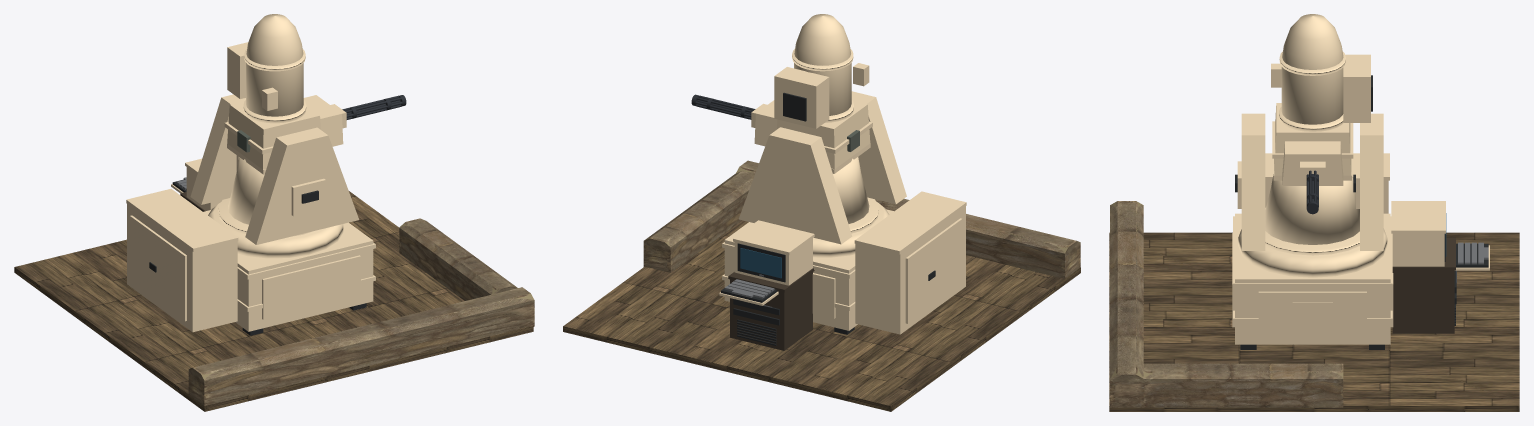
File: ciws.glb
3 renders of one model, left to right at view 1: azimuth 30°, elevation 25°; view 2: azimuth 150°, elevation 25°; view 3: azimuth 270°, elevation 25°, orthographic. The views are drawn at different scales.
Parts seen in each view (by area): view 1: SM_Phalanx; view 2: SM_Phalanx; view 3: SM_Phalanx.
Part boxes in pixels (left/top/right/bottom): SM_Phalanx: left=14, top=14, right=534, bottom=411; SM_Phalanx: left=563, top=14, right=1080, bottom=411; SM_Phalanx: left=1109, top=14, right=1519, bottom=411.
Bounding box in the file's own units: 6.08 × 5.05 × 6.07.
Materials: 12 (2 with a texture image).
